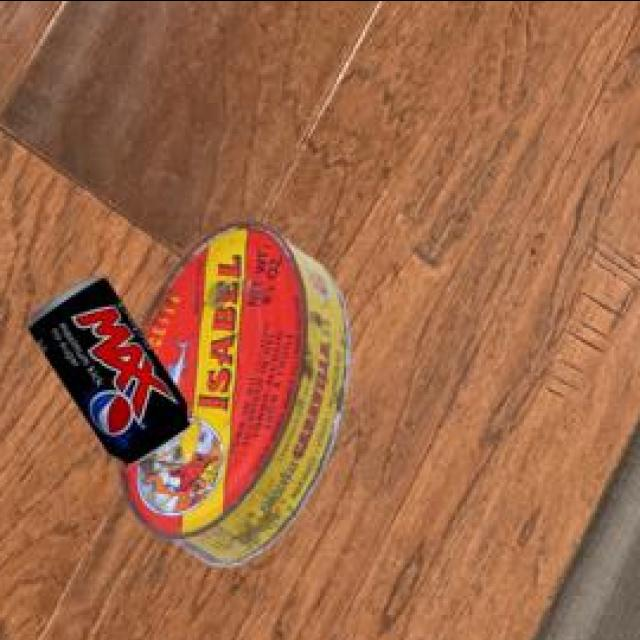logam: (120, 217, 354, 563), (32, 271, 193, 461)
